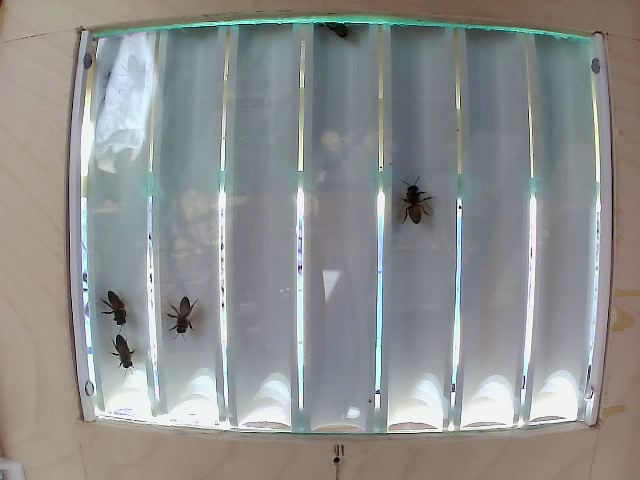bee: (394, 174, 439, 246), (175, 298, 202, 360), (102, 336, 143, 375), (98, 293, 137, 333)
